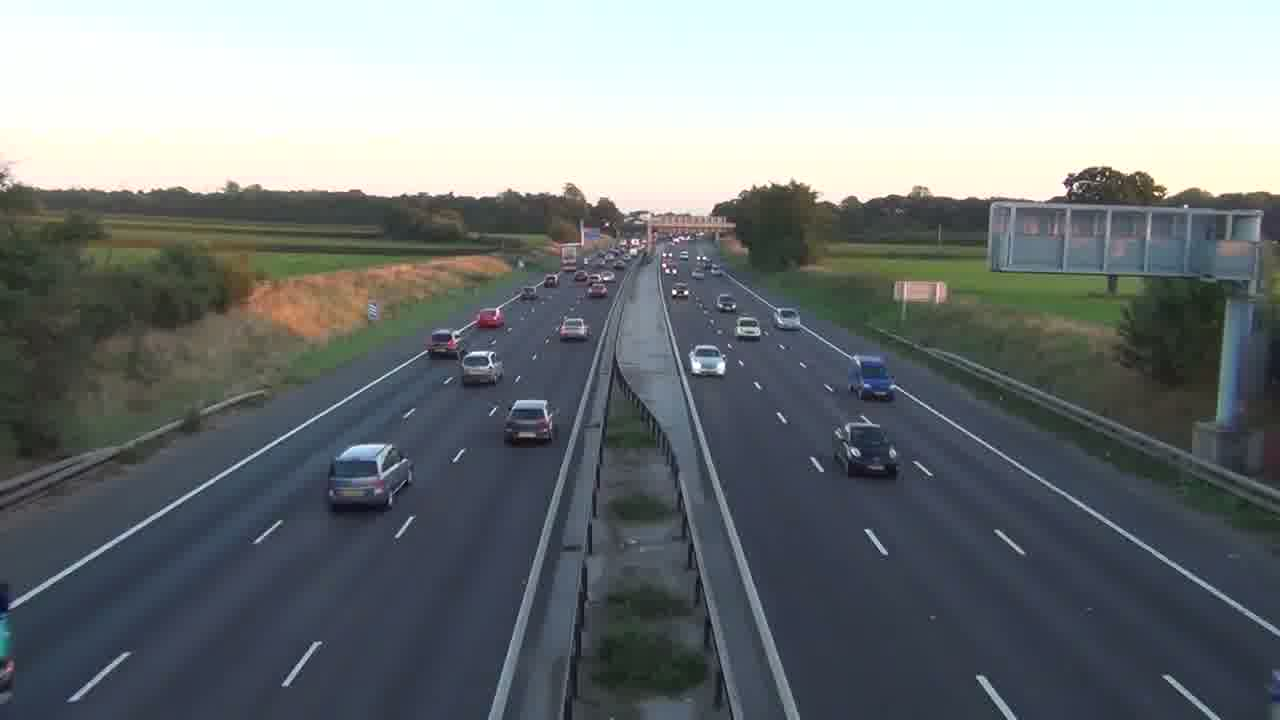car: (326, 442, 414, 511), (832, 420, 900, 477), (504, 399, 557, 446), (459, 348, 504, 387), (688, 344, 726, 376), (671, 283, 690, 299)
